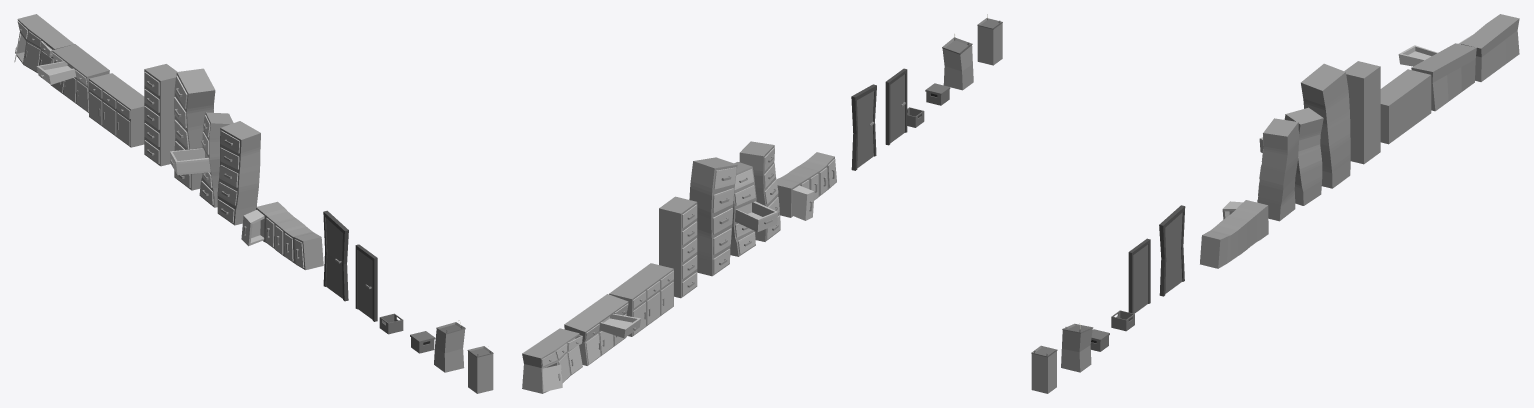
The model's file is obstaculoEscritorio.fbx.
3 views of the same model, side by side, from view 1: azimuth 30°, elevation 25°; view 2: azimuth 150°, elevation 25°; view 3: azimuth 330°, elevation 25° (orthographic).
Visible parts, largest first — view 1: Armario.001, Armario.003, Cube.002, Armario, Armario.002, Armario.004, Cube.001, Cube.006, Cube.004, Cube.005, Cube, Cube.003 (+1 smaller); view 2: Armario, Armario.002, Cube.001, Cube.006, Armario.003, Cube.002, Armario.004, Armario.001, Cube.004, Cube.005, Cube, Cube.003 (+1 smaller); view 3: Armario, Armario.001, Armario.002, Armario.003, Cube.001, Cube.002, Armario.004, Cube.006, Cube.004, Cube.005, Cube, Cube.003.
Part boxes in pixels (box(x1,y1,x2,y2)): Armario.001: box(217, 121, 260, 225); Armario.003: box(241, 201, 323, 270); Cube.002: box(88, 73, 144, 147); Armario: box(174, 68, 215, 190); Armario.002: box(144, 64, 177, 166); Armario.004: box(170, 112, 233, 207); Cube.001: box(36, 44, 109, 112); Cube.006: box(14, 14, 74, 73); Cube.004: box(323, 210, 348, 301); Cube.005: box(355, 244, 377, 321); Cube: box(434, 320, 465, 372); Cube.003: box(467, 346, 493, 393); Armario: box(689, 157, 737, 276); Armario.002: box(659, 196, 697, 298); Cube.001: box(564, 294, 641, 365); Cube.006: box(522, 328, 582, 393); Armario.003: box(776, 152, 836, 220); Cube.002: box(609, 263, 673, 336); Armario.004: box(730, 162, 777, 256); Armario.001: box(739, 141, 780, 241); Cube.004: box(851, 84, 876, 170); Cube.005: box(885, 68, 907, 145); Cube: box(942, 34, 973, 90); Cube.003: box(977, 14, 1002, 65); Armario: box(1301, 63, 1350, 188); Armario.001: box(1257, 118, 1298, 221); Armario.002: box(1344, 61, 1380, 164); Armario.003: box(1200, 200, 1268, 268); Cube.001: box(1398, 43, 1476, 111); Cube.002: box(1380, 69, 1431, 144); Armario.004: box(1259, 107, 1323, 205); Cube.006: box(1458, 14, 1519, 81); Cube.004: box(1159, 205, 1185, 296); Cube.005: box(1128, 238, 1150, 313); Cube: box(1061, 323, 1093, 372); Cube.003: box(1031, 345, 1057, 393).
Bounding box in the file's own units: 217 × 380 × 2931.
2 materials, 1 textured.
